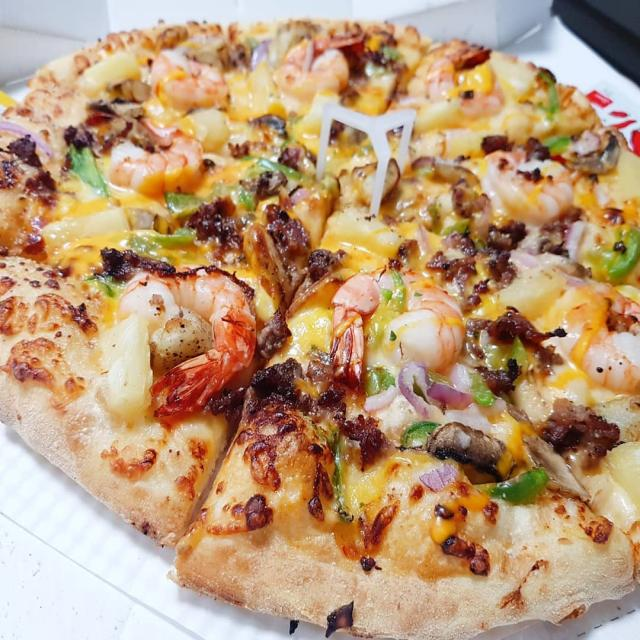mushrooms: (428, 423, 514, 478), (564, 134, 622, 176), (90, 99, 144, 116)
pizza: (0, 20, 640, 640)
